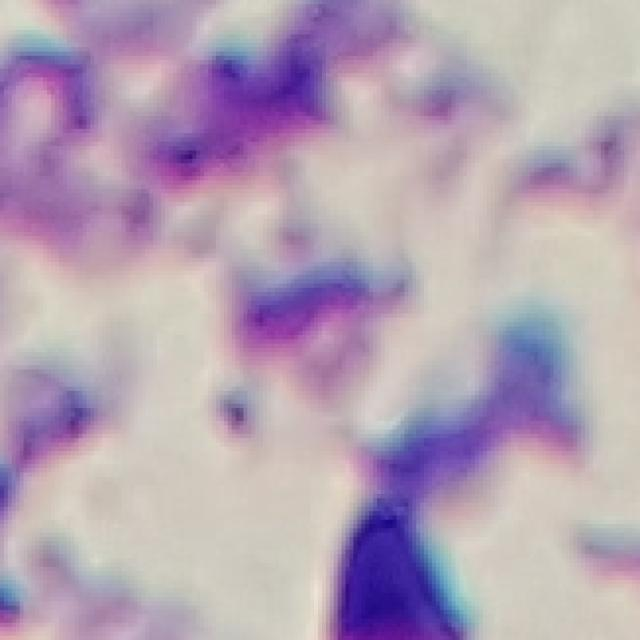non-sperm: (157, 1, 417, 369)
